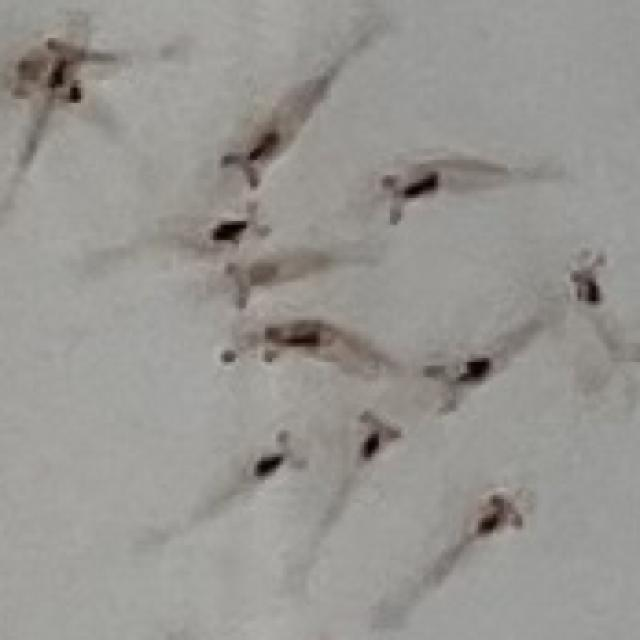shrimp-seed: (218, 126, 294, 194), (423, 352, 494, 418), (3, 55, 85, 111), (207, 195, 278, 258), (377, 161, 443, 226), (256, 318, 340, 369), (223, 258, 296, 313), (250, 427, 312, 485), (346, 404, 406, 462), (464, 489, 526, 544), (564, 248, 610, 312), (42, 34, 96, 88)
